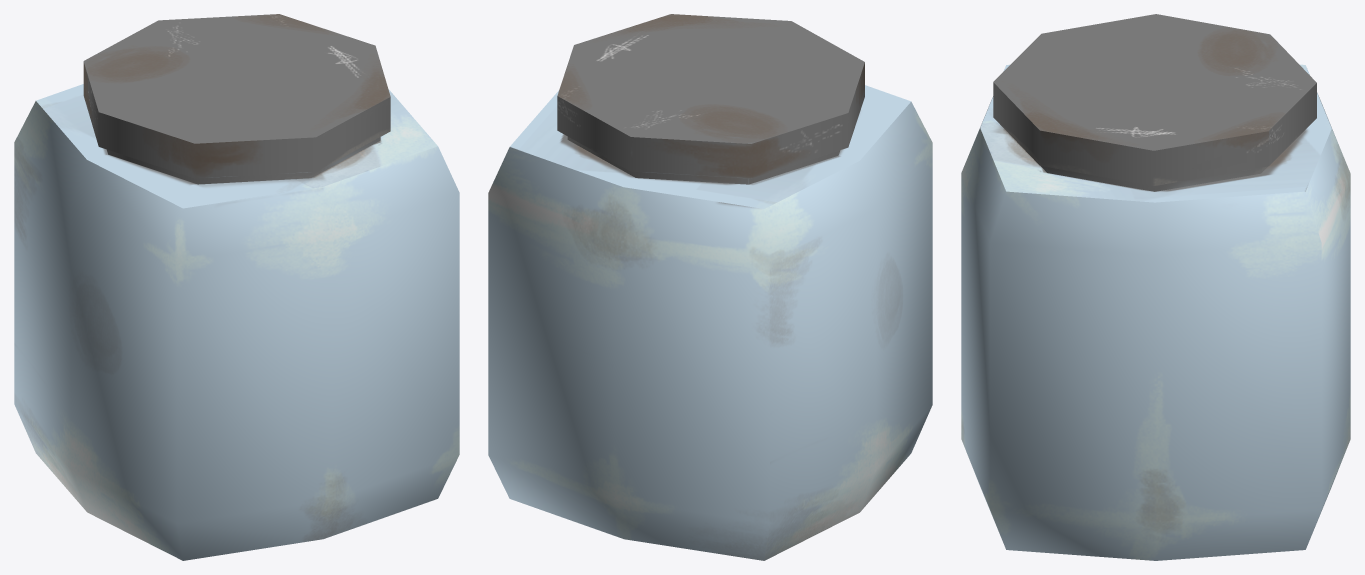
Rendered from frasco_v_pequeno_.fbx.
The picture shows the model from 3 angles, left to right: view 1: azimuth 30°, elevation 25°; view 2: azimuth 150°, elevation 25°; view 3: azimuth 270°, elevation 25°; orthographic projection.
Parts seen in each view (by area): view 1: Frasco_Vidrio_chiquito_term; view 2: Frasco_Vidrio_chiquito_term; view 3: Frasco_Vidrio_chiquito_term.
Boxes of the visible parts, x1,y1,x2,y2 form: Frasco_Vidrio_chiquito_term: (14,14,459,560); Frasco_Vidrio_chiquito_term: (488,14,932,560); Frasco_Vidrio_chiquito_term: (961,14,1350,560).
Bounding box in the file's own units: 5.35 × 6.13 × 5.35.
2 materials, 2 textured.
